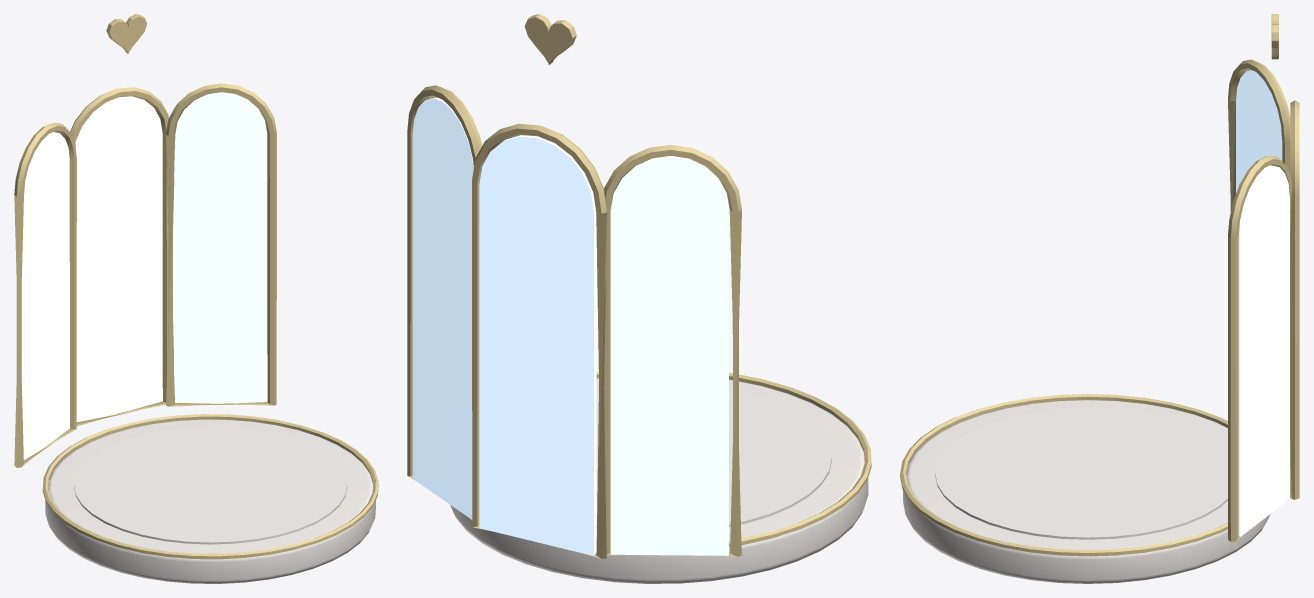
Rendered from mirror_trifold_stand.glb.
The picture shows the model from 3 angles, left to right: view 1: azimuth 30°, elevation 25°; view 2: azimuth 150°, elevation 25°; view 3: azimuth 270°, elevation 25°; orthographic projection. The views are drawn at different scales.
Visible parts, largest first — view 1: mirror_trifold_stand; view 2: mirror_trifold_stand; view 3: mirror_trifold_stand.
Part boxes in pixels (x1,y1,x2,y2): mirror_trifold_stand: [14, 14, 378, 583]; mirror_trifold_stand: [407, 14, 871, 583]; mirror_trifold_stand: [900, 14, 1299, 583].
Size of the model in its own units: 1.52 by 2.19 by 1.62.
